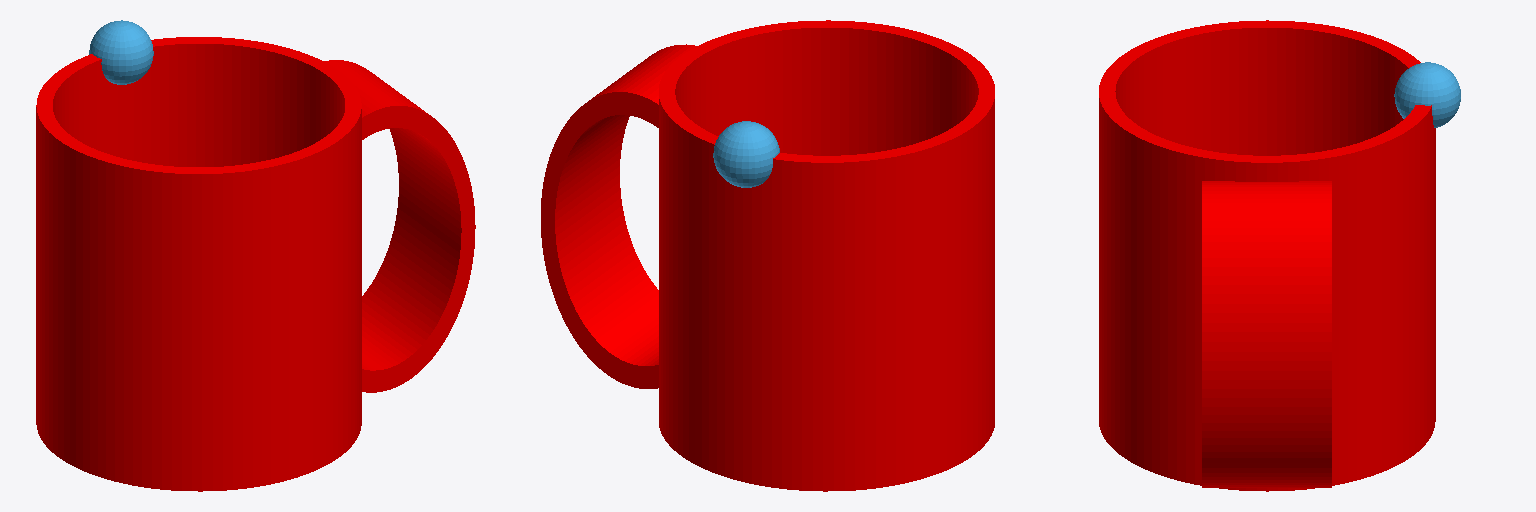
robot.urdf — mug.urdf:
<?xml version="1.0" ?>
<robot name="mug.urdf">
  <link name="base">
    <inertial>
      <origin rpy="0 0 0" xyz="0 0 0"/>
       <mass value=".1"/>
       <inertia ixx="1" ixy="0" ixz="0" iyy="1" iyz="0" izz="1"/>
    </inertial>
    <visual>
      <origin rpy="0 0 0" xyz="0 0 0"/>
      <geometry>
        <mesh filename="0.stl" scale="1 1 1" />
      </geometry>
      <material name="red">
        <color rgba="1 0 0 1"/>
      </material>
    </visual>
    <collision>
      <origin rpy="0 0 0" xyz="0 0 0"/>
      <geometry>
        <mesh filename="0_convex.obj" scale="1 1 1" />
      </geometry>
    </collision>
  </link>

  <link name="ap1">
    <visual>
      <geometry>
        <sphere radius="0.01" />
      </geometry>
    </visual>
  </link>

  <joint name="base_to_ap1" type="fixed">
    <parent link="base" />
    <child link="ap1" />
    <origin xyz="0 0.048 0.107" />
  </joint>

</robot>

--- Facts derived from the render (not from the file) ---
Views: 3 orthographic renders of the robot side by side, from view 1: azimuth 30°, elevation 25°; view 2: azimuth 150°, elevation 25°; view 3: azimuth 270°, elevation 25°.
Model mug.urdf with 2 links and 1 joints (1 fixed), rooted at base, posed all joints at 0.
Visible links, largest first — view 1: base, ap1; view 2: base, ap1; view 3: base, ap1.
Link boxes in pixels (x1=…): base: x1=36, y1=37, x2=475, y2=491; ap1: x1=89, y1=20, x2=153, y2=84; base: x1=541, y1=20, x2=994, y2=491; ap1: x1=713, y1=121, x2=779, y2=187; base: x1=1099, y1=20, x2=1435, y2=491; ap1: x1=1394, y1=62, x2=1460, y2=127.
Size in the robot's own frame: 0.138 by 0.1083 by 0.117 metres.
1 mesh visuals loaded from 1 distinct referenced files (1 binary STL).